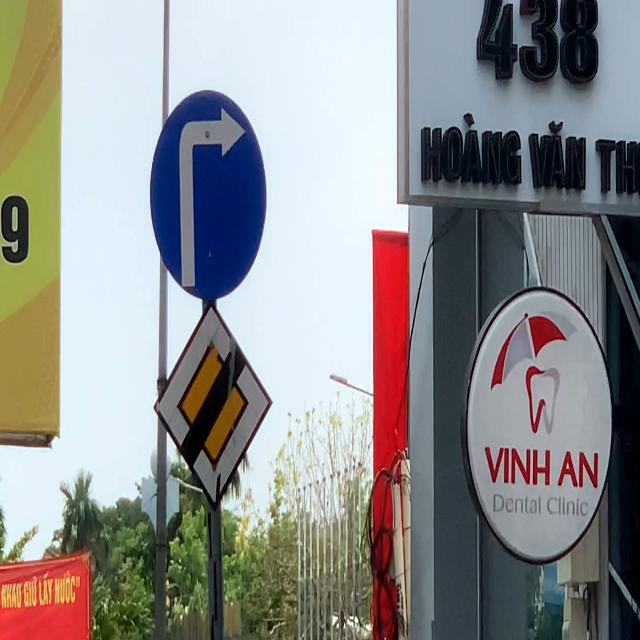R.301d: (150, 90, 268, 301)
